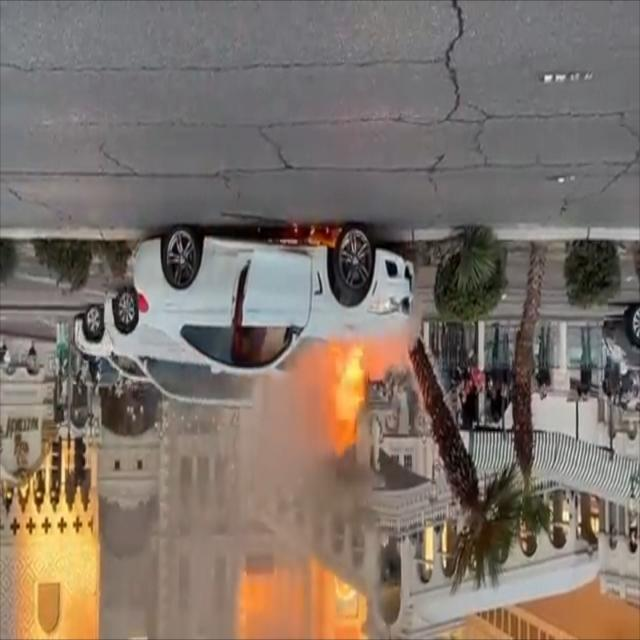fire: (314, 332, 379, 457)
